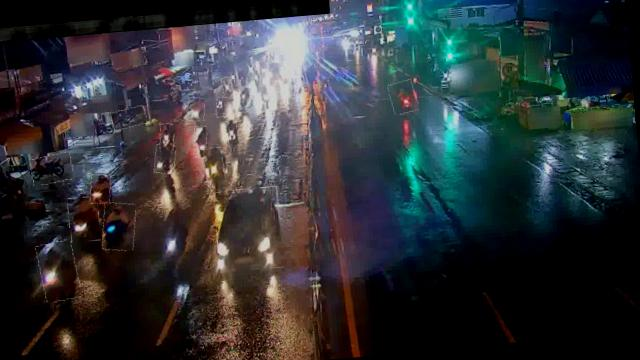Bike: (38, 240, 80, 302), (100, 201, 138, 252), (67, 194, 102, 242), (30, 153, 74, 186), (388, 80, 418, 115), (203, 146, 226, 190), (110, 106, 148, 130), (152, 144, 177, 176), (89, 174, 111, 204), (192, 125, 208, 158), (186, 97, 206, 122), (236, 87, 254, 114), (158, 122, 174, 152), (216, 96, 236, 118), (226, 121, 239, 148), (222, 76, 234, 95)
Car: (213, 186, 284, 273)
